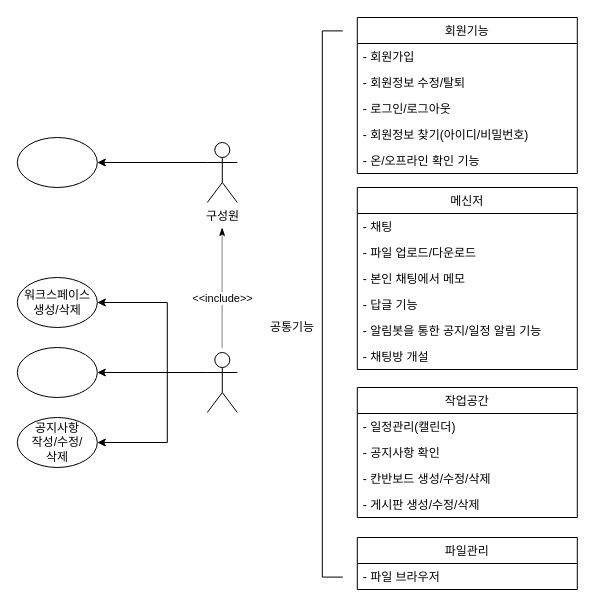
Some shapes in this 595 by 610 pixel diagram are drawn without their labels. The centre of each missing label's shape, as x and y in pixels:
"초대 요청 수락/거절" goes at pixel 56 162.
"팀원 초대/강퇴" goes at pixel 56 372.
"팀장" goes at pixel 221 382.
